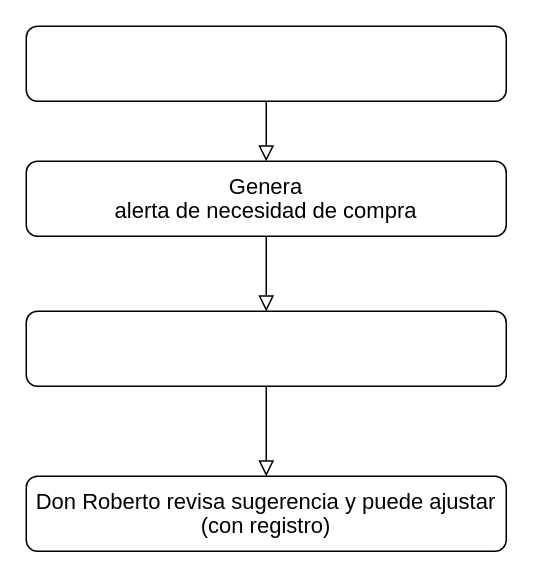
Some shapes in this 533 by 578 pixel diagram are drawn without their labels. The box of each missing label's shape, as (x1, y1, x2, y2) in pixels:
El sistema calcula automáticamente stock mínimo por producto: (25, 25, 506, 101)
Sugiere cantidad basada en rotación real (últimos 90 días): (25, 310, 506, 386)
